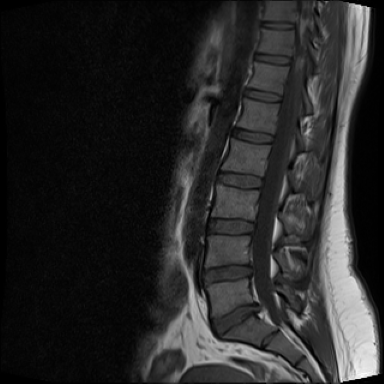Lumbar Disc Bulge (LDB): (204, 296, 270, 342), (201, 261, 261, 290)
Normal IVD: (212, 169, 266, 192), (203, 215, 257, 237), (228, 124, 279, 147), (240, 85, 284, 105), (249, 51, 294, 67), (261, 20, 298, 32)
Spinal Stenosis (SS): (239, 258, 260, 284), (249, 300, 266, 320)
